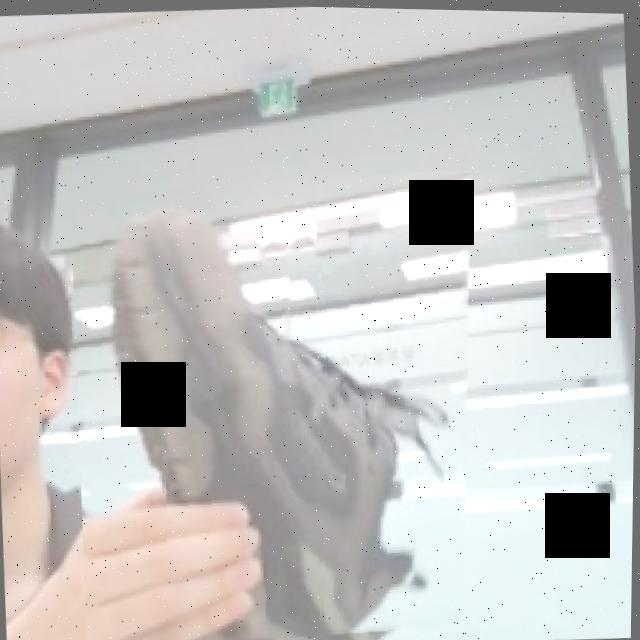shoe: (66, 161, 497, 640)
